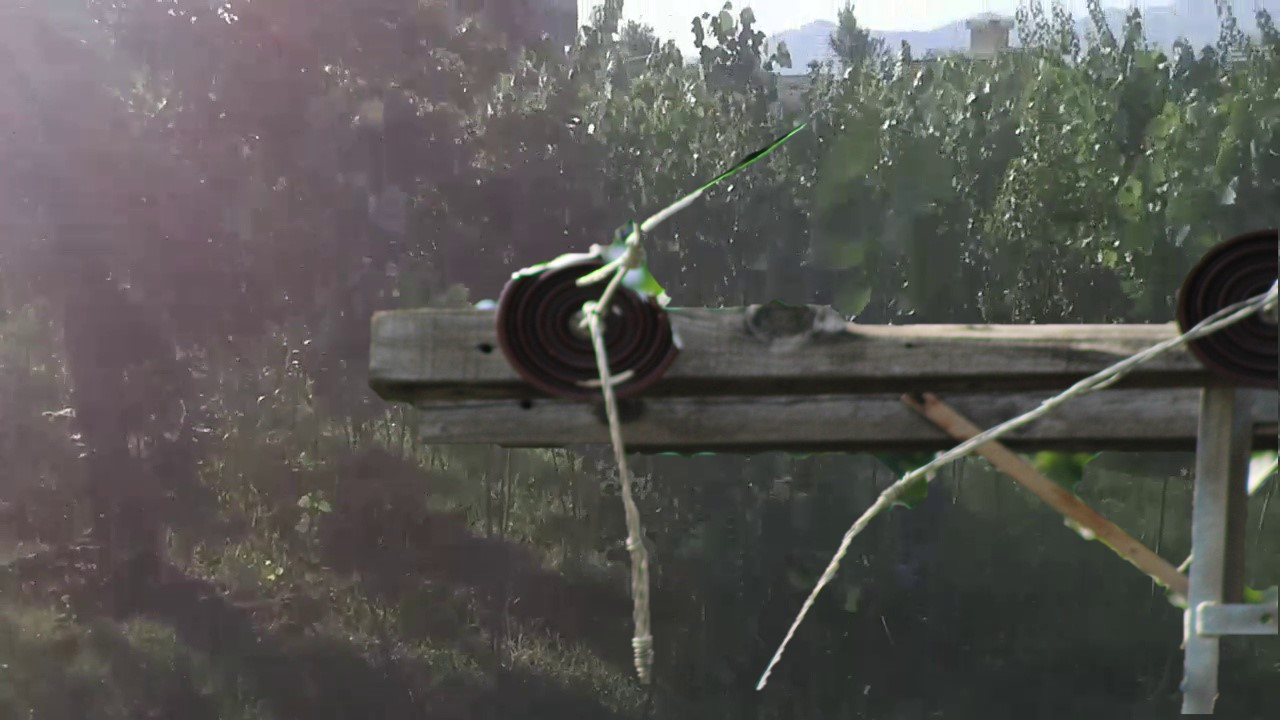defect_disc: (492, 240, 689, 423)
